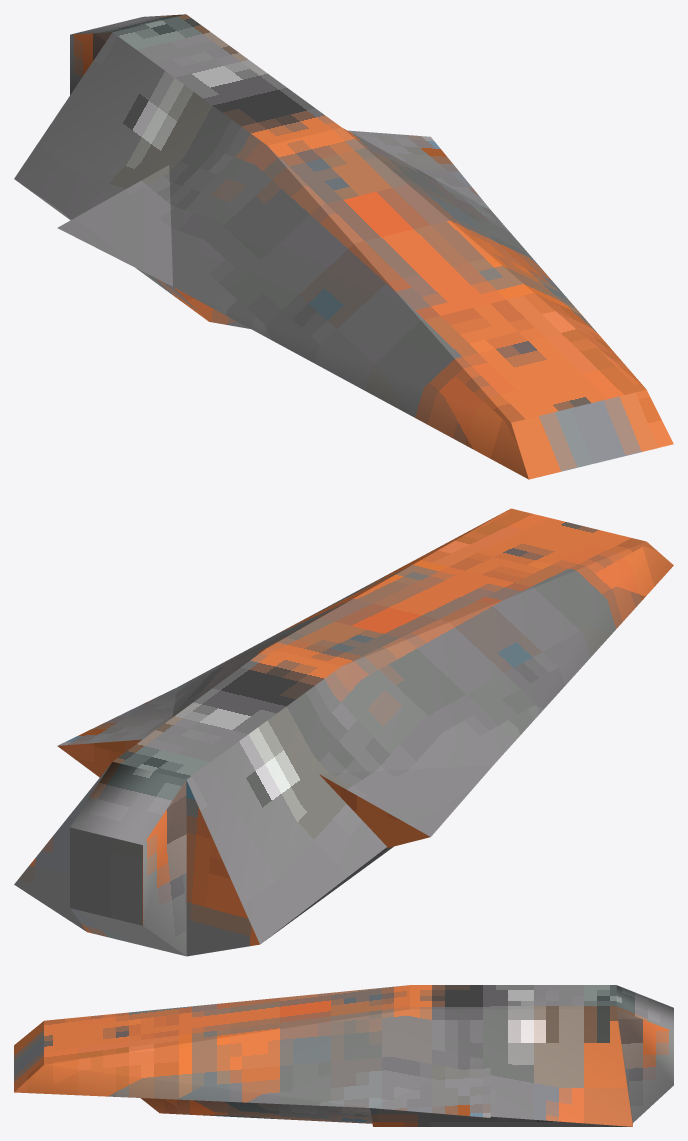
The model's file is LOD3-UVFlip.obj.
The picture shows the model from 3 angles, top to bottom: view 1: azimuth 30°, elevation 25°; view 2: azimuth 150°, elevation 25°; view 3: azimuth 270°, elevation 25°; orthographic projection. The views are drawn at different scales.
Parts seen in each view (by area): view 1: Hgn_MinelayerCorv_LOD2; view 2: Hgn_MinelayerCorv_LOD2; view 3: Hgn_MinelayerCorv_LOD2.
Boxes of the visible parts, x1,y1,x2,y2 form: Hgn_MinelayerCorv_LOD2: (14, 14, 673, 479); Hgn_MinelayerCorv_LOD2: (14, 508, 673, 956); Hgn_MinelayerCorv_LOD2: (14, 985, 673, 1126).
Bounding box in the file's own units: 23.46 × 9.87 × 53.82.
